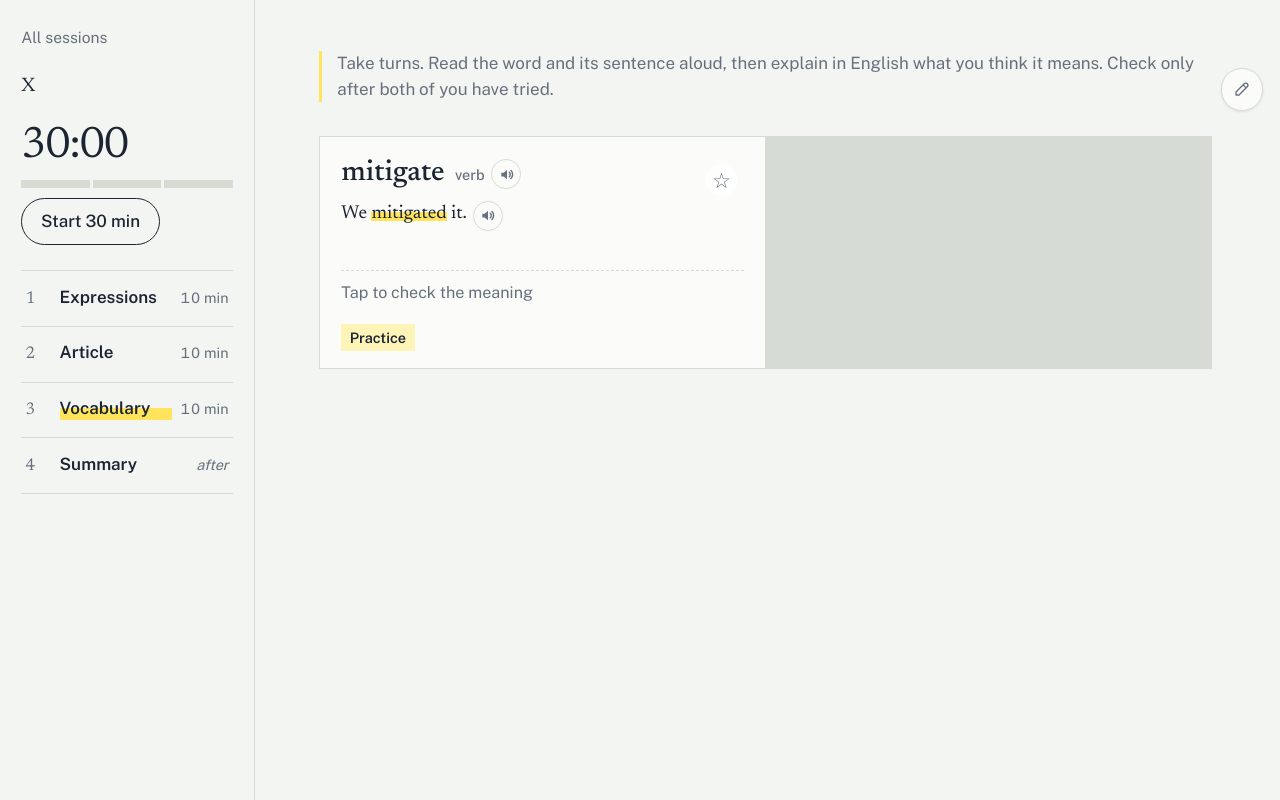
SessionPage › stays on the tab it is on while the timer runs, past the end of a phase
The width and height of the screenshot is (1280, 800).
Expected: the text "mitigate" is shown, [341,158,445,190]
Click the button "Start 30 min": [91, 222] box [21,198,160,245]
Wait 660000 ms
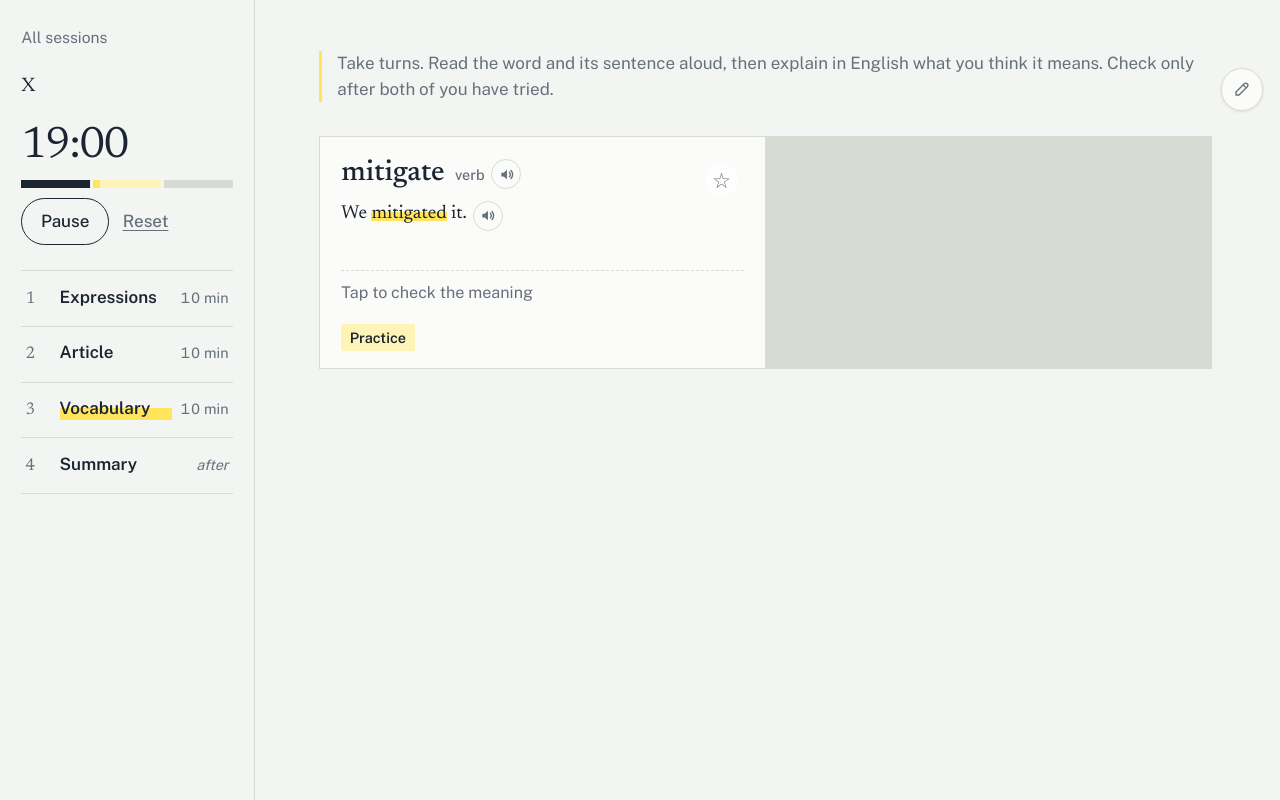
Expected: the text "mitigate" is shown, [341,158,445,190]
Now the text "19:00" is shown, box [21,125,128,169]
